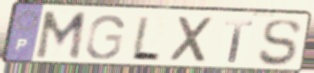G: (83, 13, 126, 61)
L: (128, 15, 163, 63)
M: (33, 10, 90, 63)
S: (257, 18, 303, 68)
T: (223, 18, 255, 64)
X: (169, 14, 218, 65)
